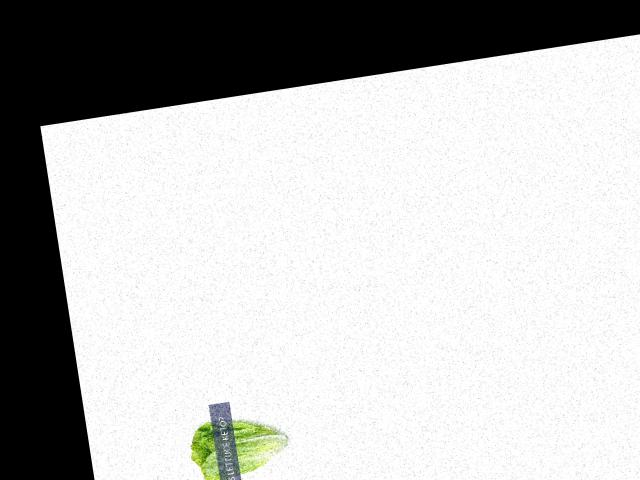lettuce: (185, 404, 302, 480)
